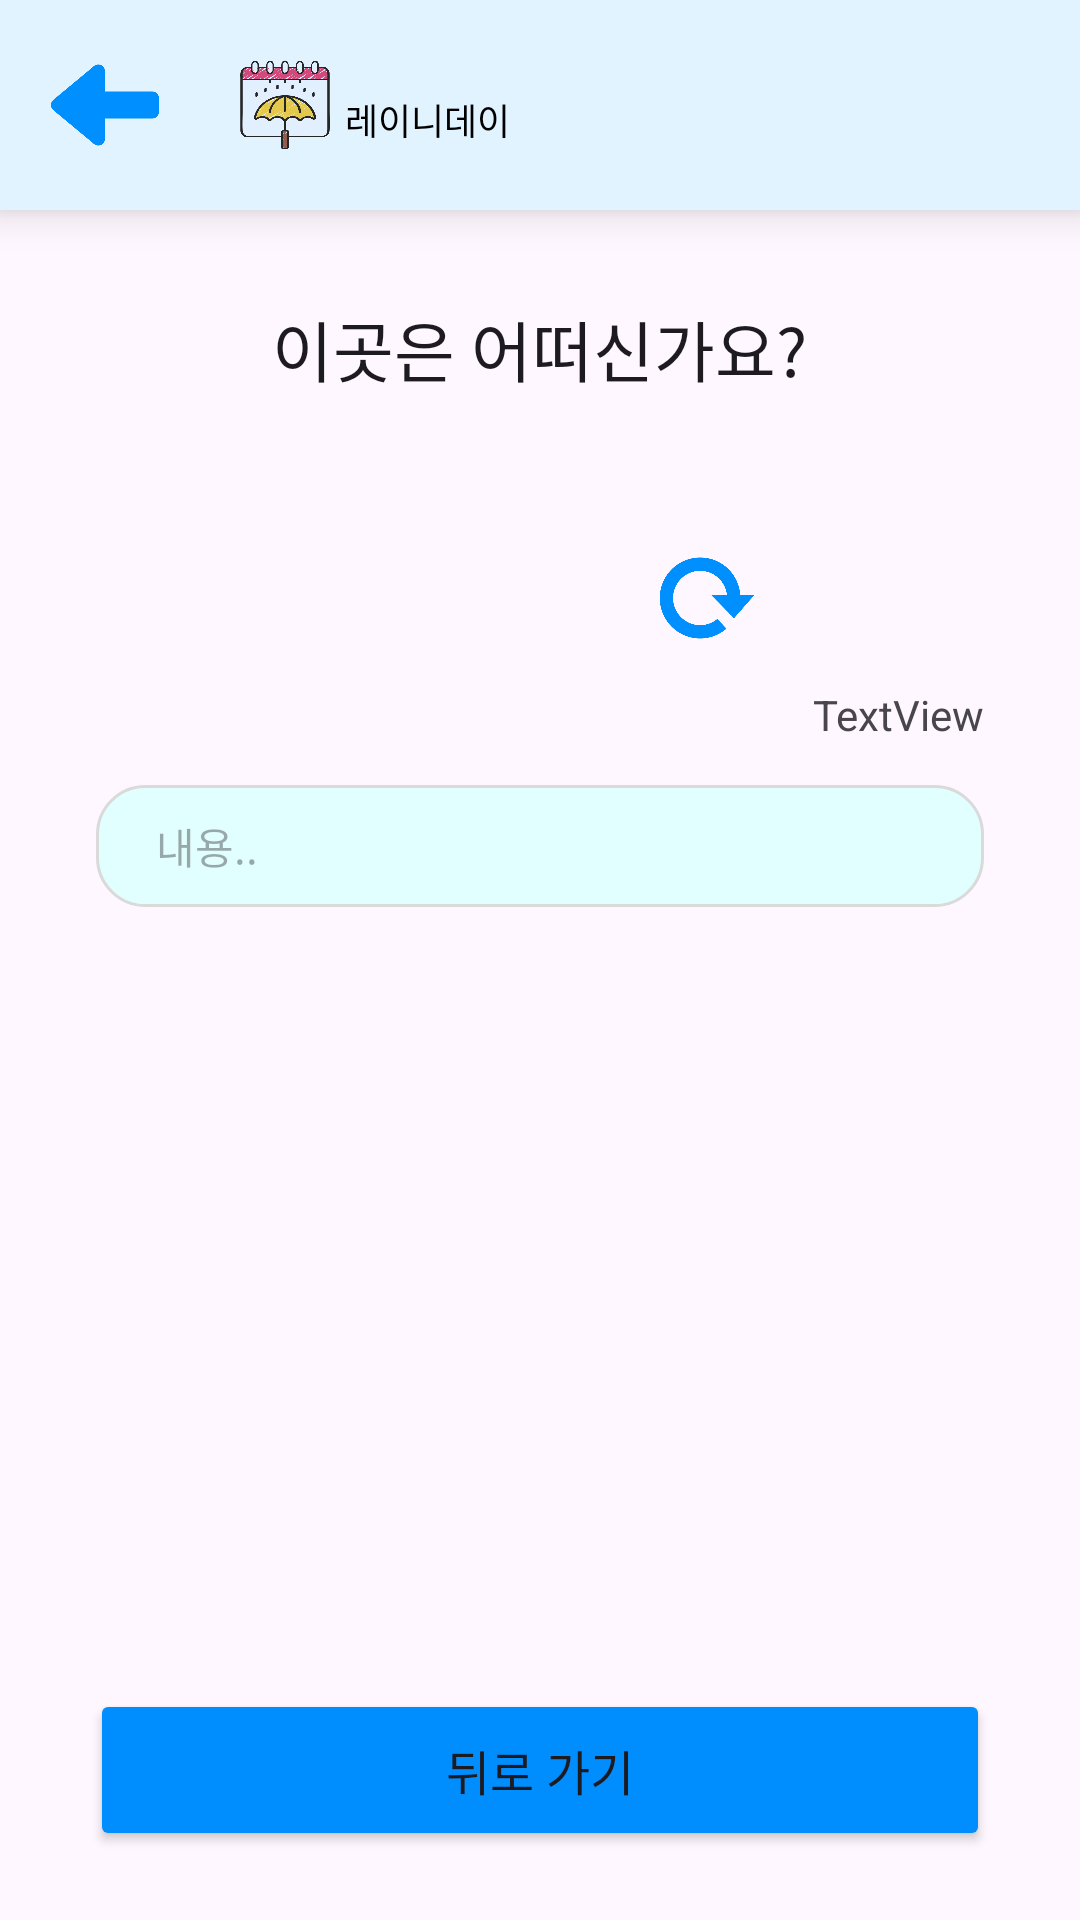

Icon bounding boxes for this 1080px x 1920px phone screenshot, format (x1, y1, x2, y2):
back: (51, 64, 159, 146)
rainyday: (240, 60, 330, 149)
refresh: (660, 557, 754, 639)
